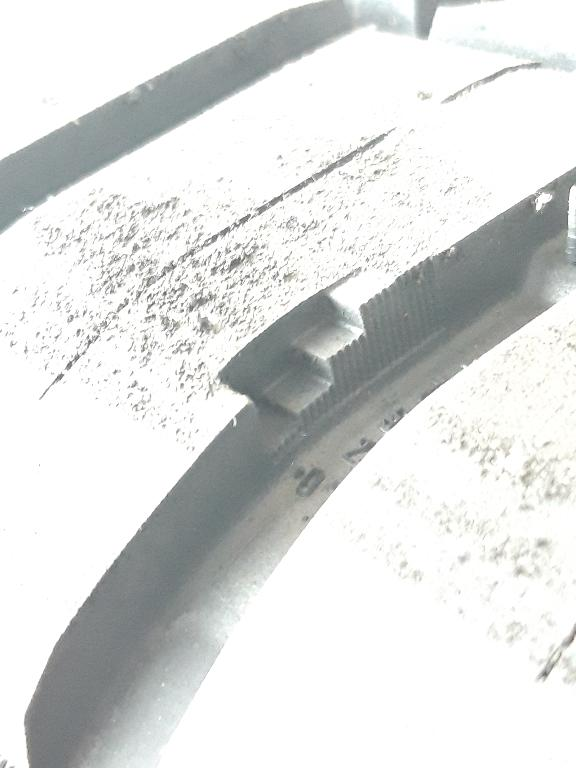temoin:75: (209, 260, 417, 473)
